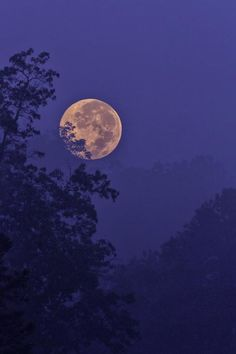moon: (57, 93, 141, 172)
